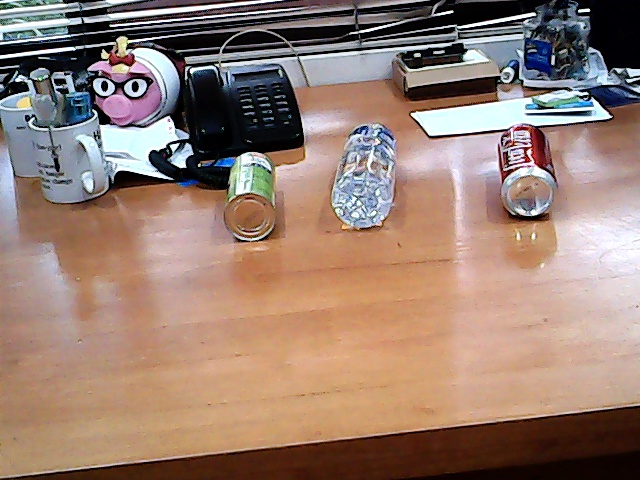Cola: (474, 104, 579, 242)
Pine Juice: (210, 135, 293, 262)
Summit Water: (313, 98, 429, 249)
